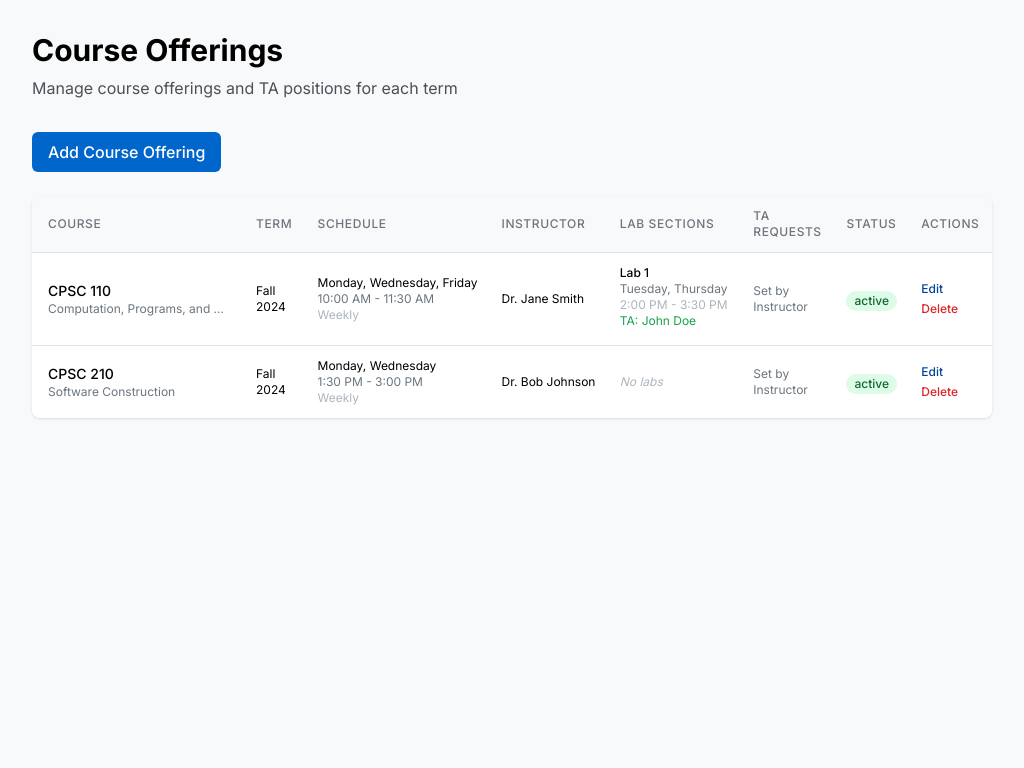
CourseOfferingsPage › Course Form Modal › opens the form modal when add course button is clicked
The image size is (1024, 768).
What coordinates should you click on to do the following:
click the button "Add Course Offering"
I would click on:
 (127, 152)
Its box is [32, 132, 221, 172].
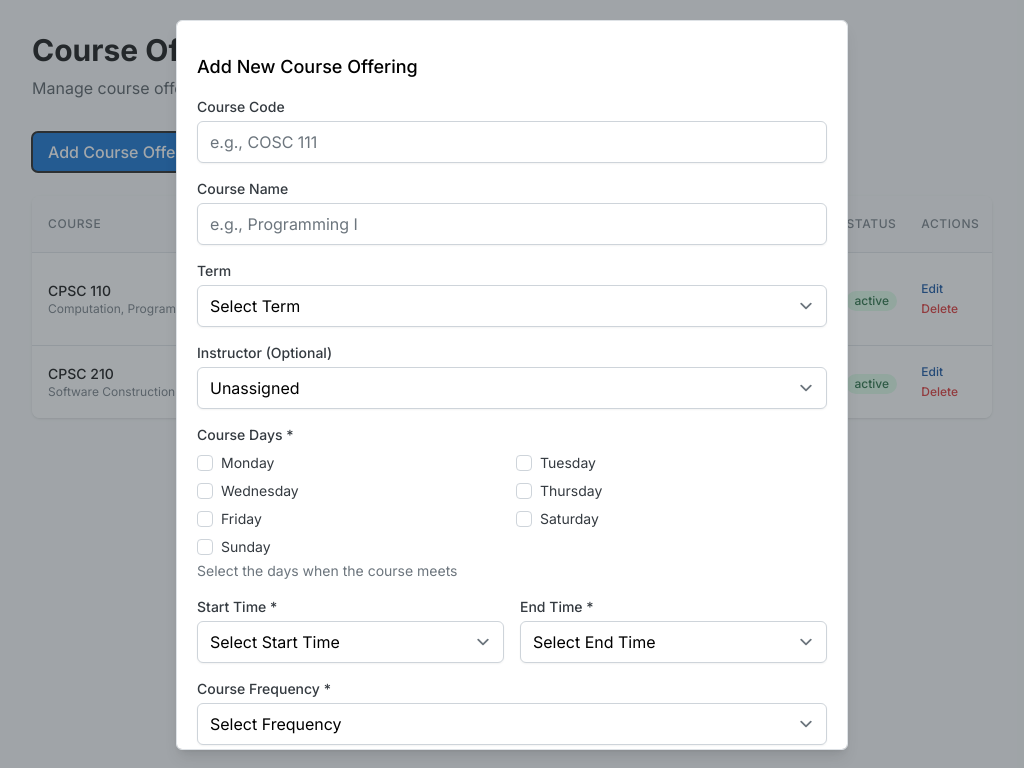
Expected: the heading "Add New Course Offering" is shown, [197, 56, 418, 77]
